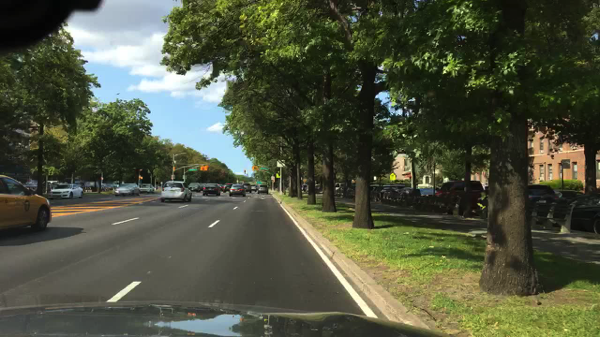car: (0, 175, 52, 236), (534, 191, 599, 232), (435, 179, 484, 207), (161, 181, 193, 203), (526, 185, 555, 207), (48, 183, 84, 199), (552, 189, 581, 204), (113, 182, 140, 197), (379, 188, 402, 200), (228, 183, 246, 197), (202, 183, 221, 196), (139, 184, 155, 194), (334, 182, 346, 195), (43, 180, 60, 188), (257, 185, 269, 195), (188, 183, 200, 193), (223, 184, 233, 192), (243, 183, 251, 193), (401, 187, 411, 195), (200, 183, 206, 191), (251, 184, 257, 192), (300, 185, 308, 191), (391, 188, 400, 193), (313, 186, 322, 191), (218, 184, 224, 191), (111, 183, 120, 187), (257, 185, 259, 191)
traffic light: (199, 166, 203, 170), (255, 167, 258, 171), (206, 166, 209, 170), (173, 166, 176, 170), (204, 165, 206, 170), (252, 166, 254, 170), (244, 170, 246, 174), (139, 177, 143, 179)
traffic sign: (277, 160, 285, 168), (389, 173, 396, 180), (260, 166, 270, 170), (275, 171, 280, 178), (171, 175, 176, 179), (189, 169, 197, 171), (271, 176, 275, 180), (182, 175, 186, 179), (257, 181, 261, 184)
